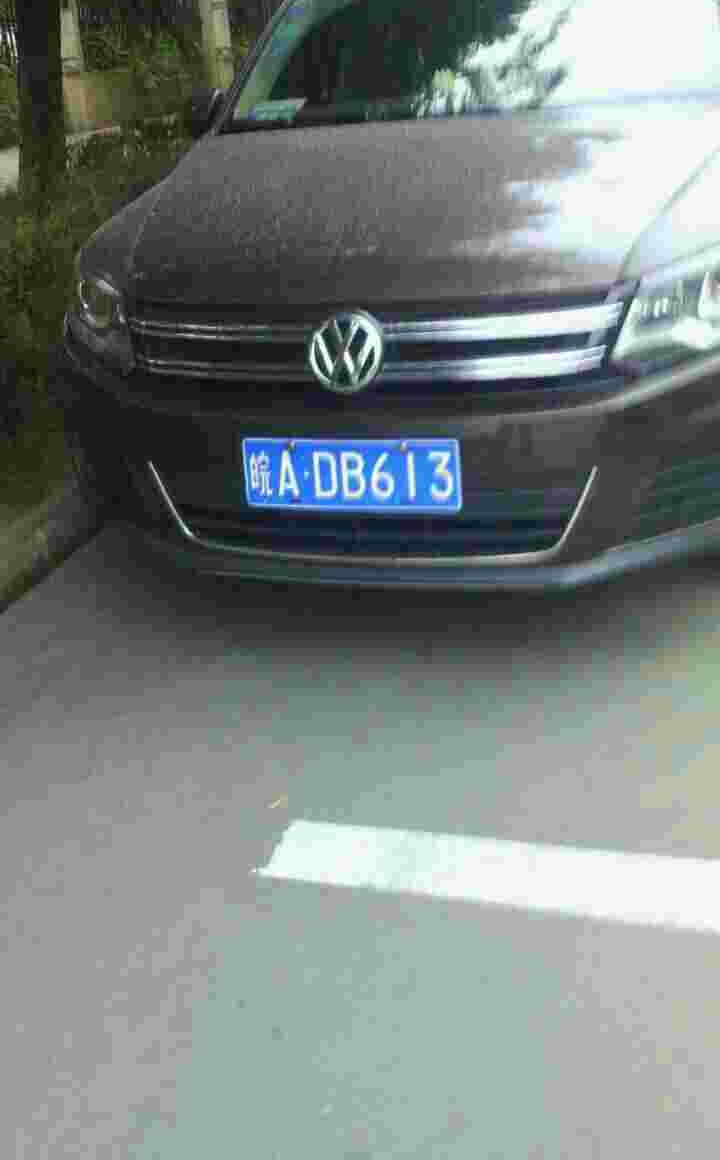license_plate: (227, 432, 472, 517)
